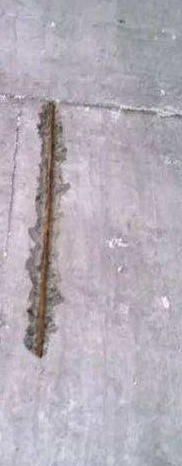Exposed reinforcement: (35, 104, 56, 358)
Spalling: (23, 102, 72, 359)
